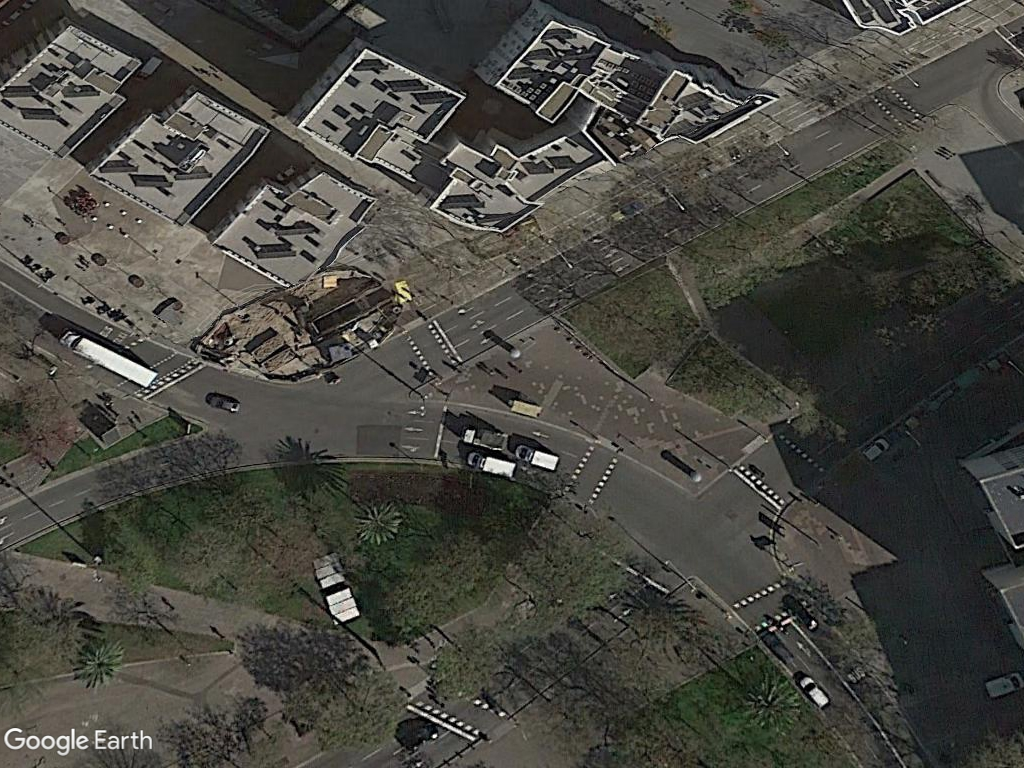longvehicle: (56, 326, 158, 389)
truck: (509, 441, 563, 475), (460, 453, 520, 480), (459, 424, 512, 454)
van: (794, 672, 831, 711)
